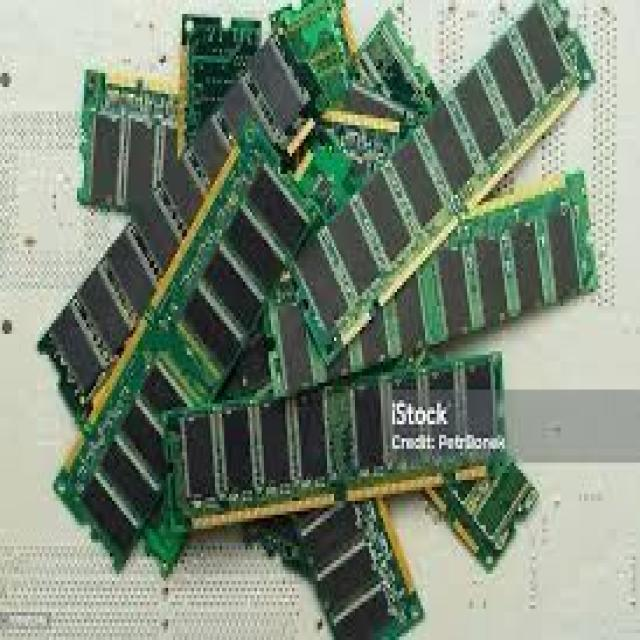Ram: (71, 55, 602, 611)
